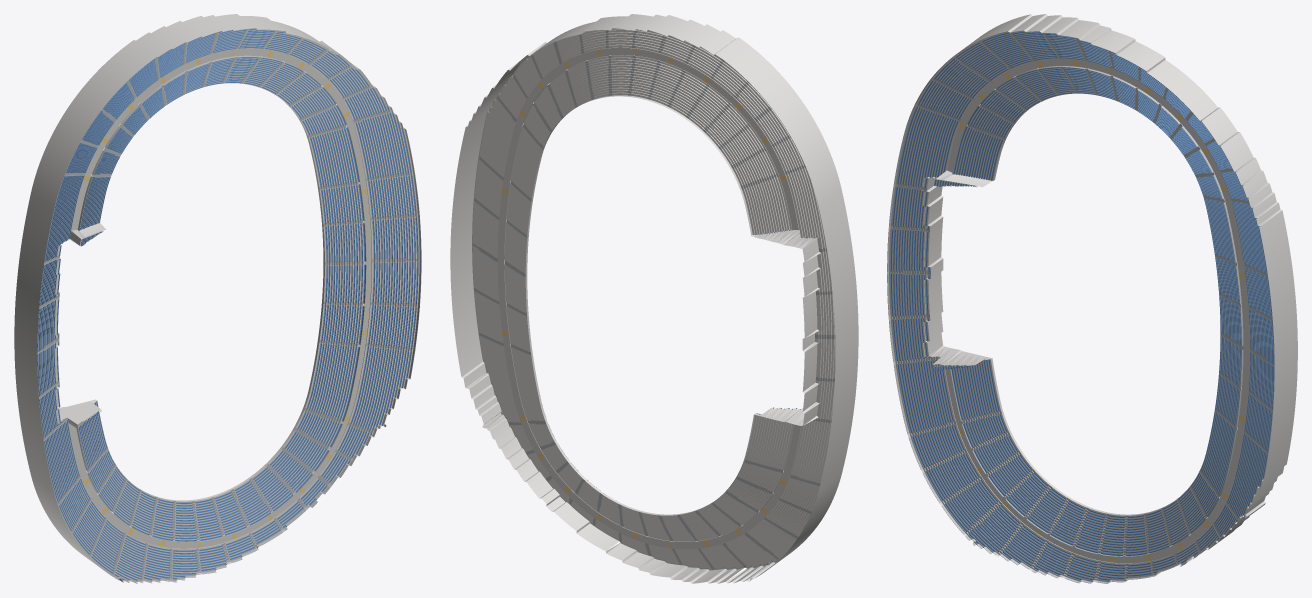
File: bowl_reconstruction.glb
3 views of the same model, side by side, from view 1: azimuth 30°, elevation 25°; view 2: azimuth 150°, elevation 25°; view 3: azimuth 330°, elevation 25° (orthographic).
Visible parts, largest first — view 1: NEWBOWL_seat_2653A6, NEWBOWL_tread_C7C5C0, NEWBOWL_seatback_2653A6, NEWBOWL_wallr_B9B7B2, NEWBOWL_walk_B0ACA4, NEWBOWL_aisle_7E8388, NEWBOWL_wallf_B9B7B2, NEWBOWL_parapetr_8F9499, NEWBOWL_parapetf_8F9499, NEWBOWL_fan_B9B7B2, NEWBOWL_wch_E8A33D, NEWBOWL_riser_B9B7B2; view 2: NEWBOWL_tread_C7C5C0, NEWBOWL_wallr_B9B7B2, NEWBOWL_riser_B9B7B2, NEWBOWL_walk_B0ACA4, NEWBOWL_aisle_7E8388, NEWBOWL_wallf_B9B7B2, NEWBOWL_fan_B9B7B2, NEWBOWL_parapetf_8F9499, NEWBOWL_wch_E8A33D; view 3: NEWBOWL_seat_2653A6, NEWBOWL_tread_C7C5C0, NEWBOWL_seatback_2653A6, NEWBOWL_wallr_B9B7B2, NEWBOWL_walk_B0ACA4, NEWBOWL_aisle_7E8388, NEWBOWL_wallf_B9B7B2, NEWBOWL_parapetr_8F9499, NEWBOWL_parapetf_8F9499, NEWBOWL_fan_B9B7B2, NEWBOWL_riser_B9B7B2, NEWBOWL_wch_E8A33D.
Boxes of the visible parts, x1,y1,x2,y2 form: NEWBOWL_seat_2653A6: (38, 29, 417, 580); NEWBOWL_tread_C7C5C0: (38, 29, 417, 579); NEWBOWL_seatback_2653A6: (37, 29, 418, 580); NEWBOWL_wallr_B9B7B2: (14, 14, 421, 582); NEWBOWL_walk_B0ACA4: (37, 28, 419, 582); NEWBOWL_aisle_7E8388: (37, 29, 418, 580); NEWBOWL_wallf_B9B7B2: (68, 48, 372, 549); NEWBOWL_parapetr_8F9499: (37, 28, 421, 583); NEWBOWL_parapetf_8F9499: (76, 55, 366, 542); NEWBOWL_fan_B9B7B2: (58, 40, 405, 582); NEWBOWL_wch_E8A33D: (83, 49, 367, 547); NEWBOWL_riser_B9B7B2: (56, 59, 417, 581); NEWBOWL_tread_C7C5C0: (472, 28, 835, 569); NEWBOWL_wallr_B9B7B2: (450, 14, 858, 583); NEWBOWL_riser_B9B7B2: (557, 29, 834, 542); NEWBOWL_walk_B0ACA4: (472, 45, 801, 570); NEWBOWL_aisle_7E8388: (472, 30, 835, 568); NEWBOWL_wallf_B9B7B2: (520, 47, 820, 549); NEWBOWL_fan_B9B7B2: (461, 28, 819, 583); NEWBOWL_parapetf_8F9499: (504, 55, 794, 541); NEWBOWL_wch_E8A33D: (502, 48, 786, 548); NEWBOWL_seat_2653A6: (891, 31, 1273, 580); NEWBOWL_tread_C7C5C0: (891, 31, 1274, 579); NEWBOWL_seatback_2653A6: (890, 31, 1274, 580); NEWBOWL_wallr_B9B7B2: (887, 14, 1297, 582); NEWBOWL_walk_B0ACA4: (889, 31, 1272, 582); NEWBOWL_aisle_7E8388: (890, 32, 1274, 579); NEWBOWL_wallf_B9B7B2: (927, 58, 1250, 563); NEWBOWL_parapetr_8F9499: (887, 30, 1277, 583); NEWBOWL_parapetf_8F9499: (939, 66, 1243, 557); NEWBOWL_fan_B9B7B2: (926, 14, 1282, 583); NEWBOWL_riser_B9B7B2: (891, 62, 1187, 575); NEWBOWL_wch_E8A33D: (959, 59, 1245, 562).
Bounding box in the file's own units: 158 × 214 × 16.45.
